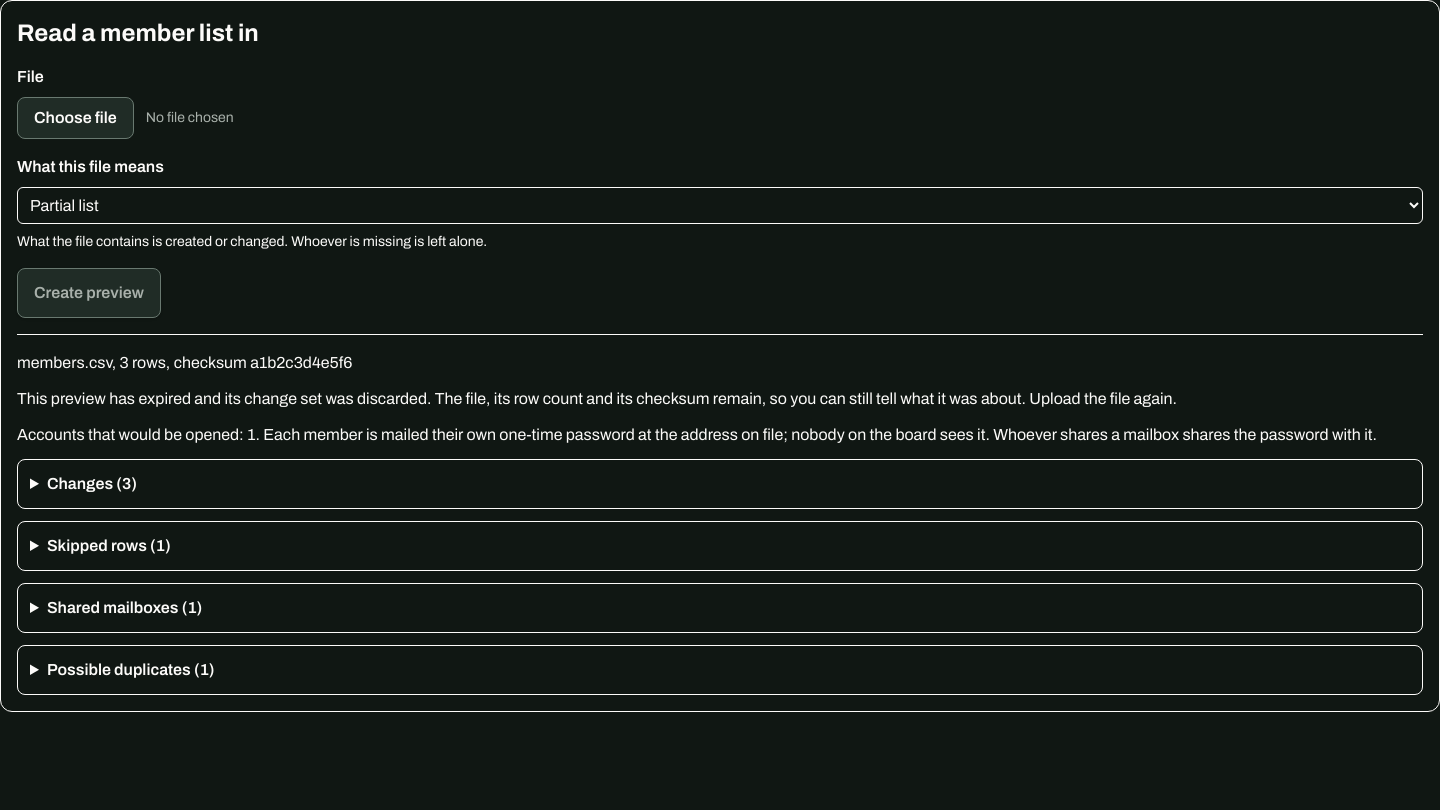
it: ImportPreviewPanel › given a positional row with the wrong width (import.snapshot.row.columnsMissing), when the preview is read, then it names both counts
The image size is (1440, 810).
Click the heading with test id "row-errors-heading". click: (109, 546)
box: [47,537,171,554]
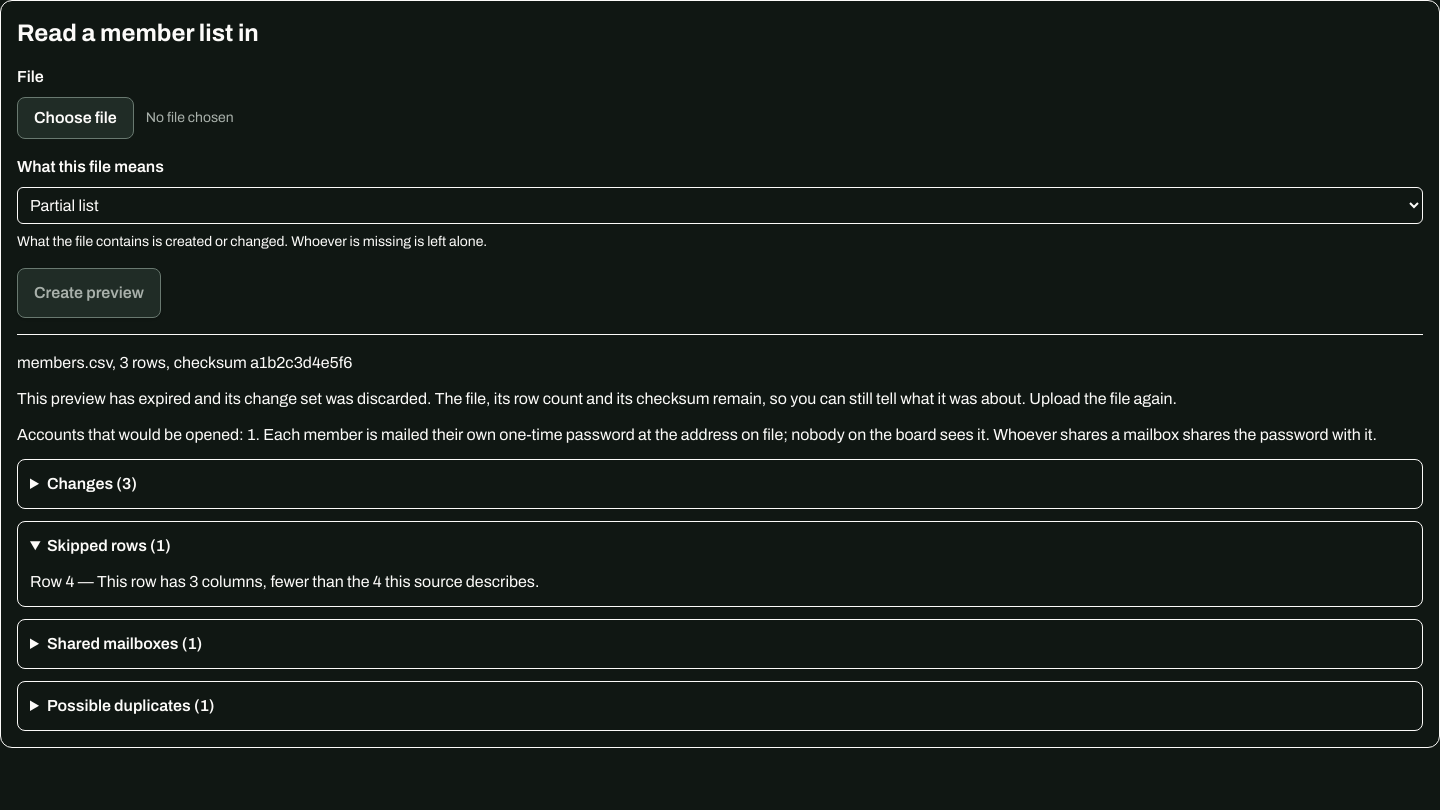
Check: the list item with test id "row-error-4" does not show "import.snapshot.row.columnsMissing", box [30,573,540,590]
Check: the list item with test id "row-error-4" shows "fewer", box [97,573,539,590]
